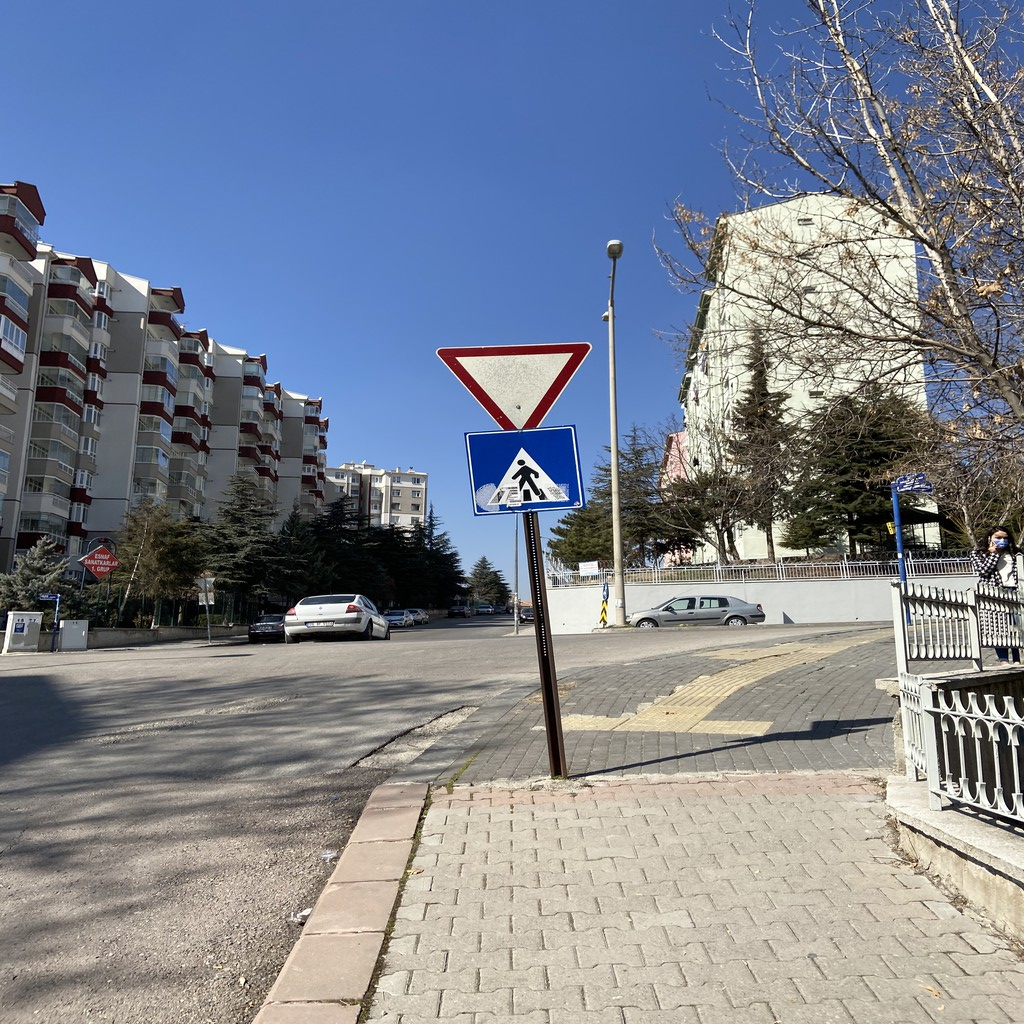Yaya Gecidi: (471, 431, 581, 508)
Yol Ver: (437, 337, 609, 421)
